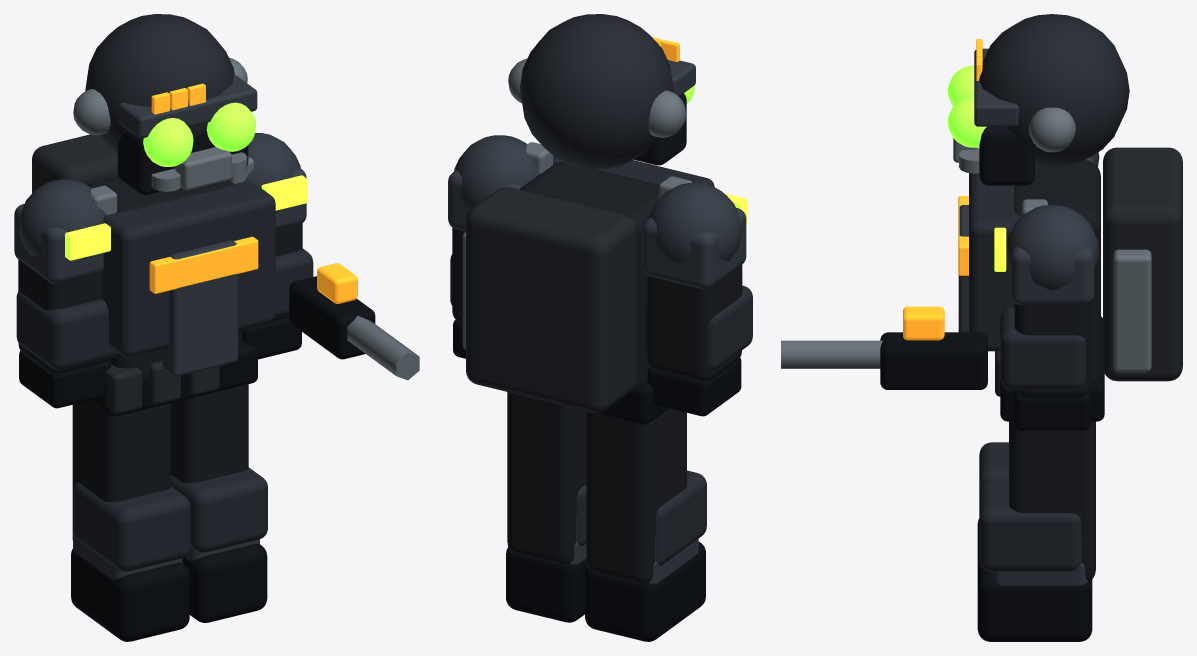
Rendered from assault_l03.glb.
The picture shows the model from 3 angles, left to right: view 1: azimuth 30°, elevation 25°; view 2: azimuth 150°, elevation 25°; view 3: azimuth 270°, elevation 25°; orthographic projection. The views are drawn at different scales.
Visible parts, largest first — view 1: segmented_vest, trouser (×2), shaped_knee_guard (×2), boot (×2), rounded_helmet, forearm_plate (×2), front_plate, shoulder_joint (×2), glove (×2), carbine_body, sleeve (×2), field_pack (+19 smaller); view 2: field_pack, trouser (×2), rounded_helmet, boot (×2), shoulder_joint (×2), sleeve (×2), body, shoulder_plate (×2), shaped_knee_guard (×2), glove, forearm_plate, helmet_comm (×2) (+7 smaller); view 3: rounded_helmet, field_pack, trouser, shaped_knee_guard (×2), boot, segmented_vest, carbine_body, shoulder_joint, forearm_plate, spare_magazine, body, sleeve (+14 smaller).
Part boxes in pixels (x1,y1,x2,y2): segmented_vest: (102,181,275,357); trouser (×2): (72,384,248,539); shaped_knee_guard (×2): (73,467,267,571); boot (×2): (71,544,267,641); rounded_helmet: (85,14,234,152); forearm_plate (×2): (16,248,313,370); front_plate: (162,240,237,376); shoulder_joint (×2): (19,133,300,259); glove (×2): (19,317,301,408); carbine_body: (289,276,375,359); sleeve (×2): (18,223,302,373); field_pack: (32,134,118,193); field_pack: (466,186,636,413); trouser (×2): (507,392,686,584); rounded_helmet: (520,14,673,168); boot (×2): (506,541,705,641); shoulder_joint (×2): (454,135,741,264); sleeve (×2): (452,227,742,380); body: (519,161,659,383); shoulder_plate (×2): (448,170,746,289); shaped_knee_guard (×2): (576,470,706,565); glove: (647,357,741,416); forearm_plate: (646,285,752,369); helmet_comm (×2): (508,58,686,137); rounded_helmet: (979,14,1129,167); field_pack: (1103,147,1182,381); trouser: (1009,421,1095,581); shaped_knee_guard (×2): (979,442,1081,571); boot: (977,557,1092,641); segmented_vest: (969,173,1020,351); carbine_body: (880,332,987,389); shoulder_joint: (1006,204,1099,290); forearm_plate: (1000,307,1085,389); spare_magazine: (1113,249,1151,372); body: (1014,160,1100,380); sleeve: (1014,303,1090,397).
Size of the model in its own units: 0.91 by 1.87 by 1.16.
